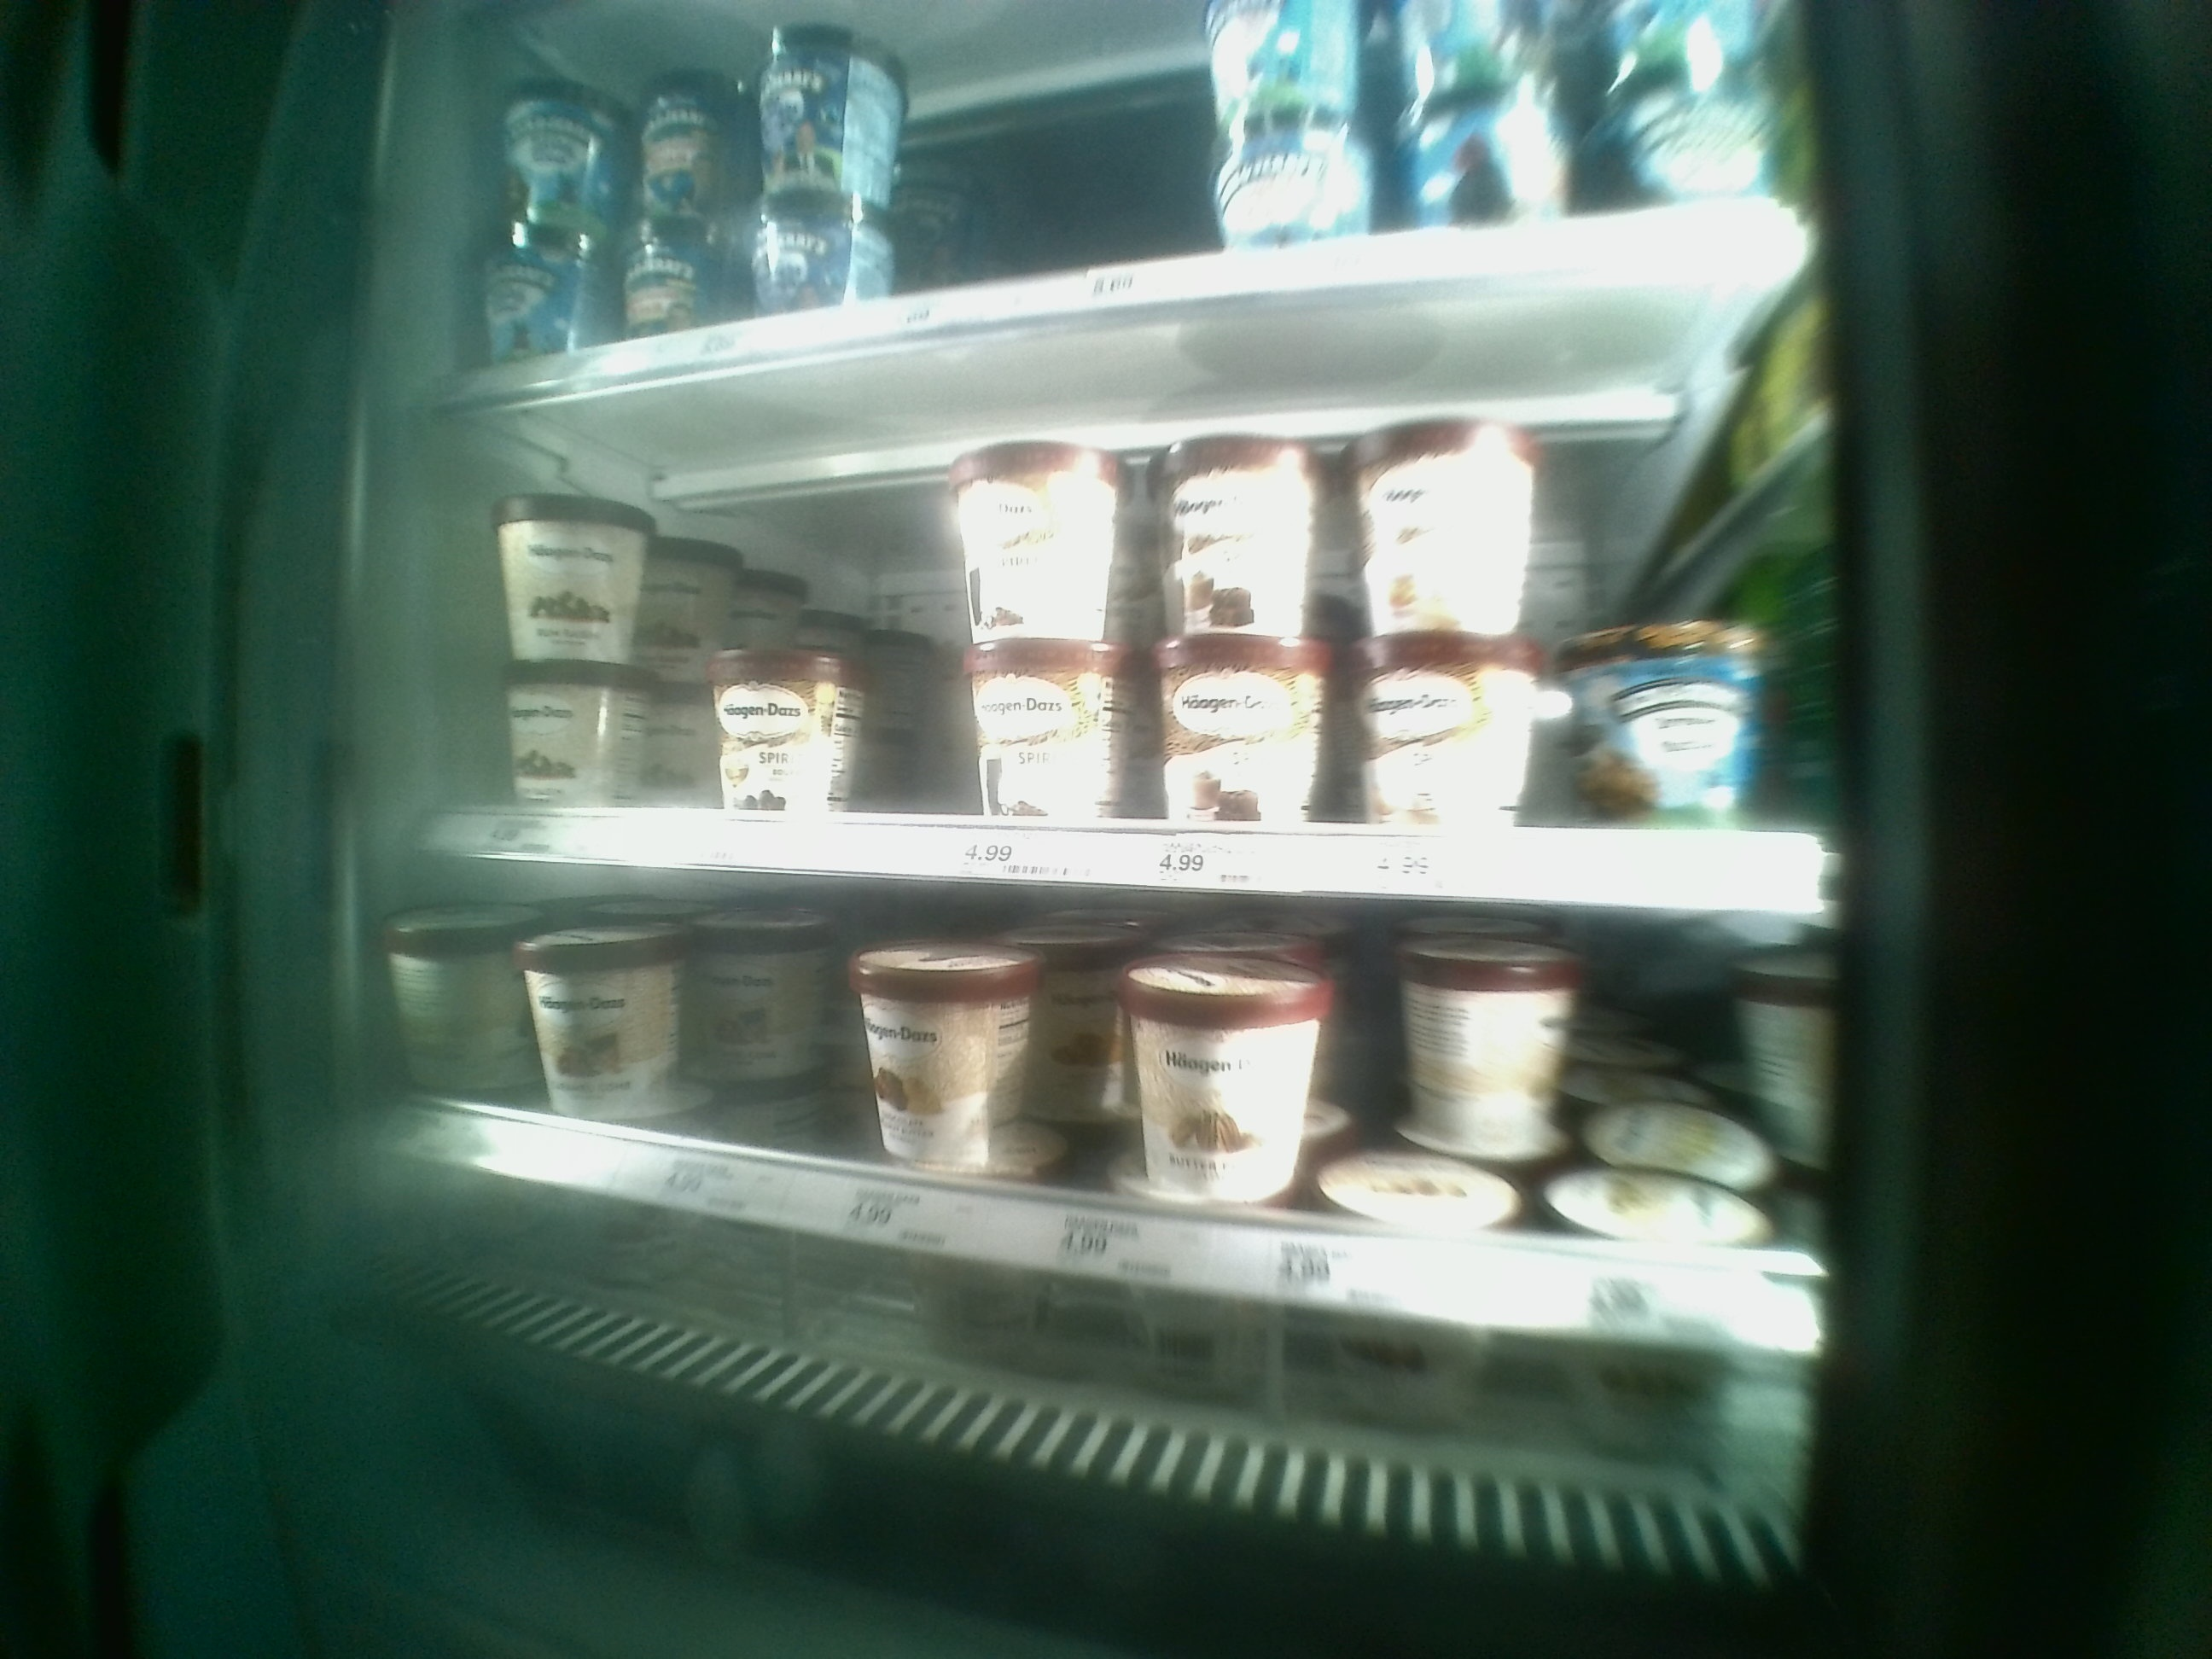shelf: (427, 859, 1843, 1530), (427, 403, 1844, 915)
